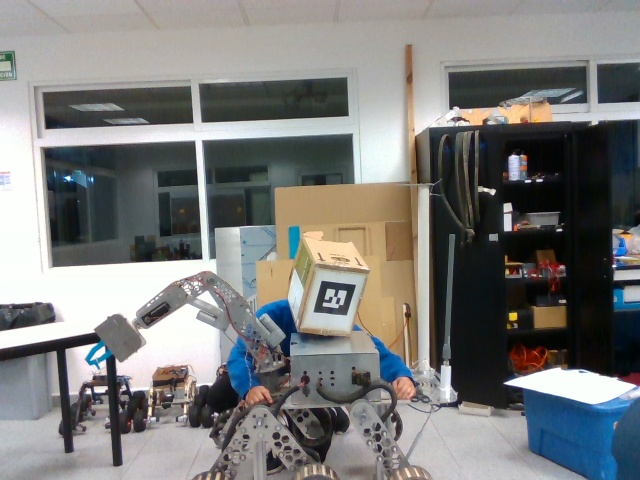ar4: (311, 279, 354, 322)
